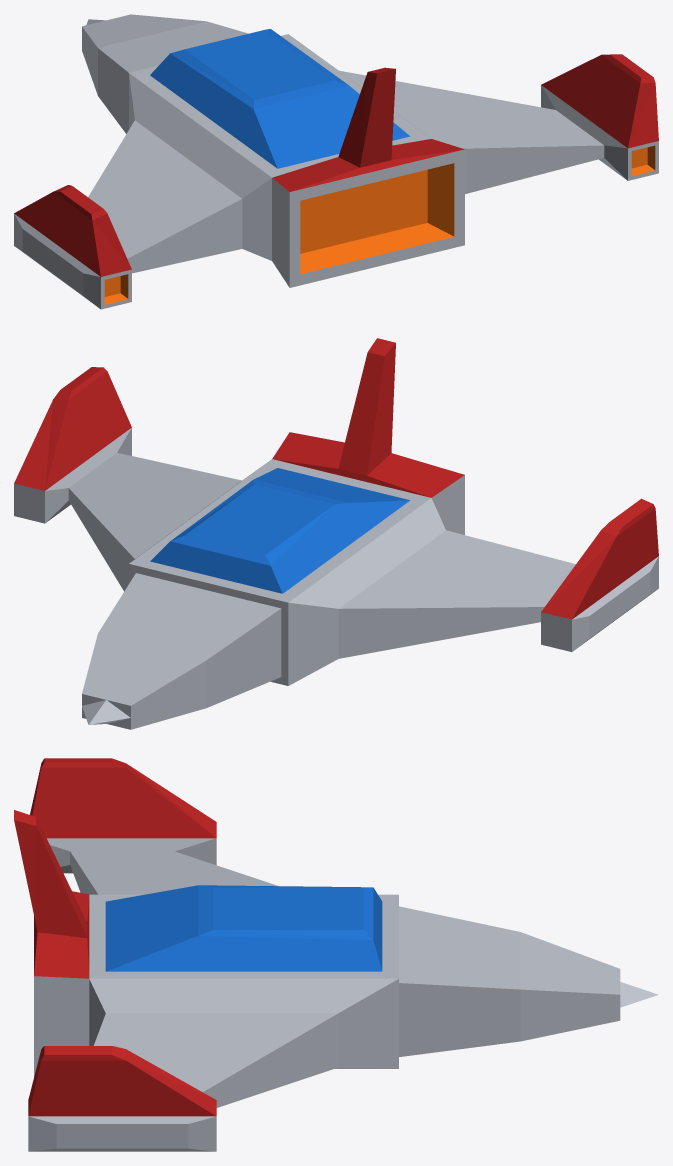
Rendered from nave.obj.
The picture shows the model from 3 angles, top to bottom: view 1: azimuth 30°, elevation 25°; view 2: azimuth 150°, elevation 25°; view 3: azimuth 270°, elevation 25°; orthographic projection. The views are drawn at different scales.
Parts seen in each view (by area): view 1: Nave; view 2: Nave; view 3: Nave.
Boxes of the visible parts, x1=… form: Nave: x1=14, y1=14, x2=658, y2=309; Nave: x1=14, y1=338, x2=658, y2=729; Nave: x1=14, y1=758, x2=658, y2=1151.
Bounding box in the file's own units: 6.4 × 2.18 × 5.83.
